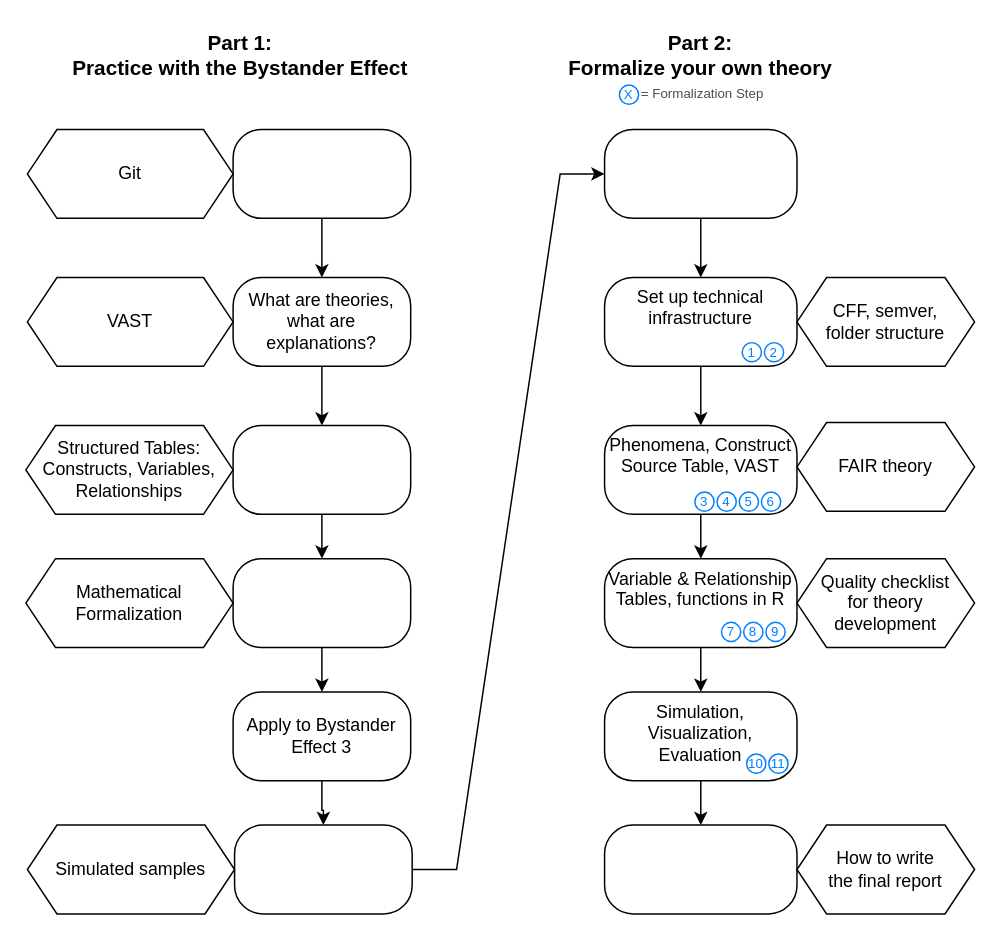
The diagram is 1000 pixels wide and 940 high, and some of its shapes have lost their labels. The centre of each missing label's shape, as x and y in pixels:
Apply to Bystander Effect 1: (321,469)
Apply to Bystander Effect 2: (321,602)
Apply to Bystander Effect 4: (322,869)
Candidate theories are proposed & chosen: (700,173)
Final Presentations of your models: (700,869)
Theory crisis: (321,173)
